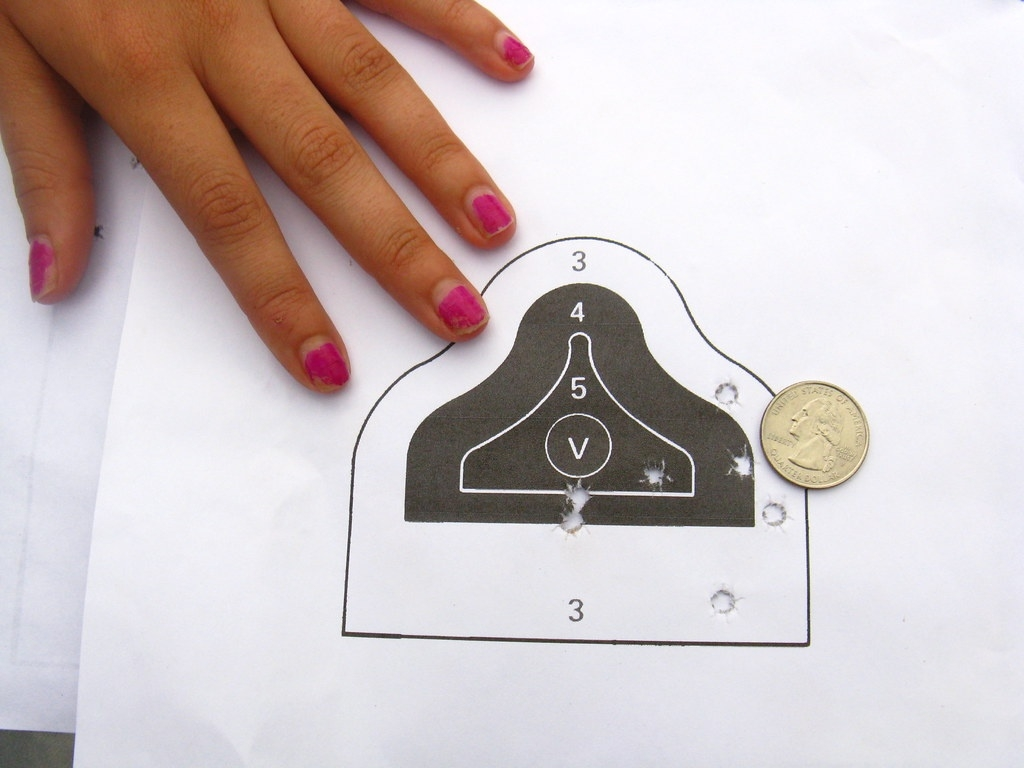bullet-holes: (757, 498, 794, 534), (555, 508, 592, 540), (640, 455, 674, 489), (562, 478, 596, 510), (731, 442, 758, 479), (714, 378, 743, 412), (710, 586, 738, 618)
